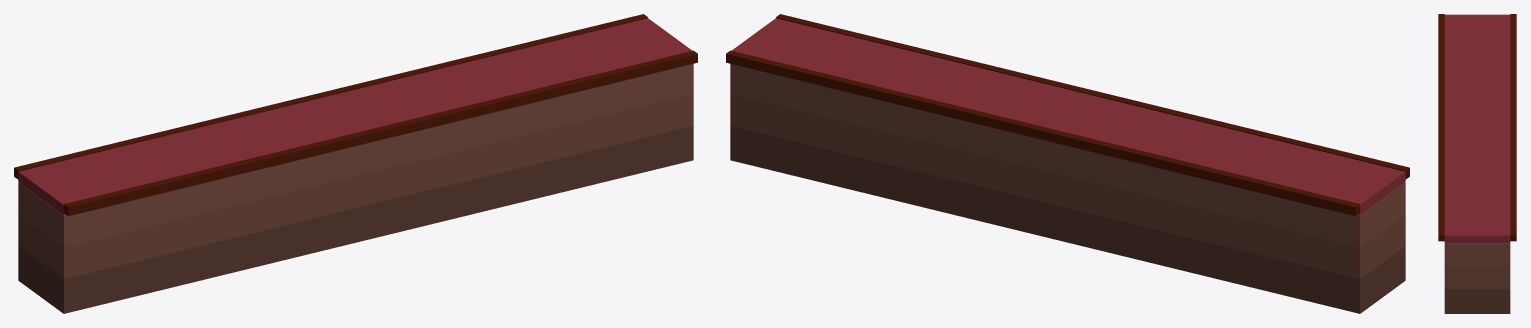
File: Boss.fbx
3 renders of one model, left to right at view 1: azimuth 30°, elevation 25°; view 2: azimuth 150°, elevation 25°; view 3: azimuth 270°, elevation 25°, orthographic. The views are drawn at different scales.
Parts seen in each view (by area): view 1: Plane.094, Plane.117, Cube.141; view 2: Plane.094, Plane.117, Cube.141; view 3: Plane.117, Plane.094, Cube.141.
Part boxes in pixels (x1,y1,x2,y2): Plane.094: [18, 64, 693, 313]; Plane.117: [18, 18, 692, 214]; Cube.141: [14, 14, 697, 216]; Plane.094: [730, 64, 1405, 313]; Plane.117: [731, 18, 1405, 214]; Cube.141: [726, 14, 1409, 216]; Plane.117: [1444, 14, 1510, 242]; Plane.094: [1444, 243, 1510, 313]; Cube.141: [1438, 14, 1516, 241].
Size of the model in its own units: 6400 by 1067 by 955.
